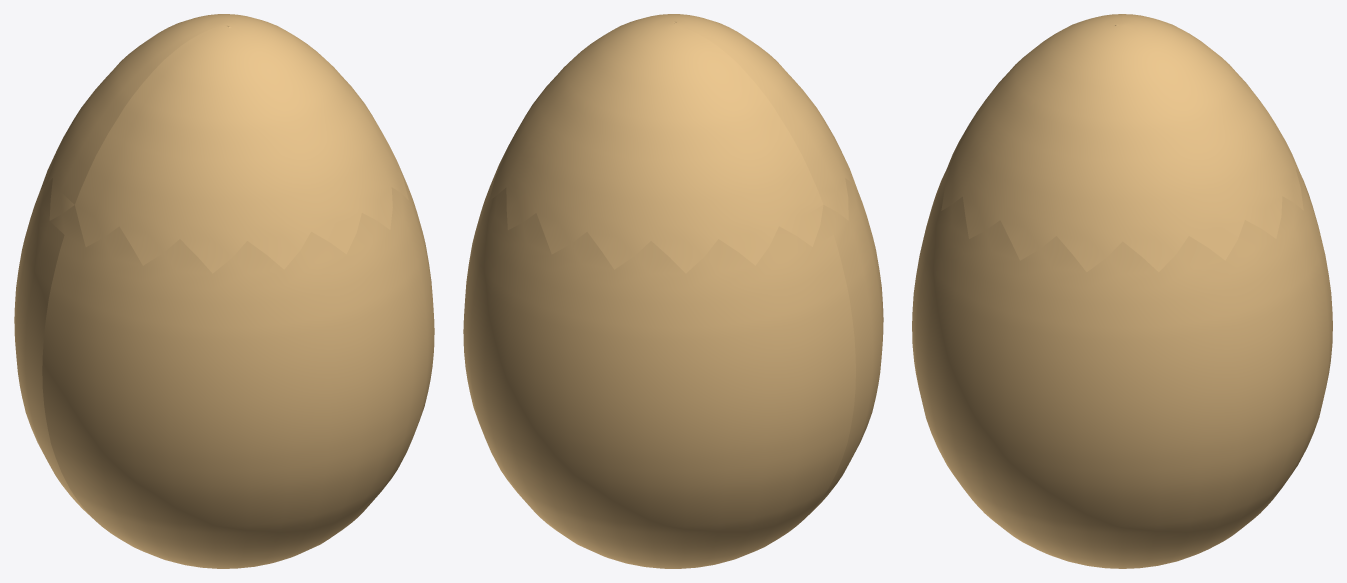
File: splitegg.glb
3 views of the same model, side by side, from view 1: azimuth 30°, elevation 25°; view 2: azimuth 150°, elevation 25°; view 3: azimuth 270°, elevation 25° (orthographic).
Parts seen in each view (by area): view 1: EggBottom, EggTop; view 2: EggBottom, EggTop; view 3: EggBottom, EggTop.
Boxes of the visible parts, x1,y1,x2,y2 form: EggBottom: [14, 161, 434, 568]; EggTop: [40, 14, 408, 273]; EggBottom: [463, 160, 883, 568]; EggTop: [489, 14, 857, 273]; EggBottom: [912, 168, 1332, 568]; EggTop: [941, 14, 1303, 271].
Size of the model in its own units: 3.86 by 5.32 by 3.86.
